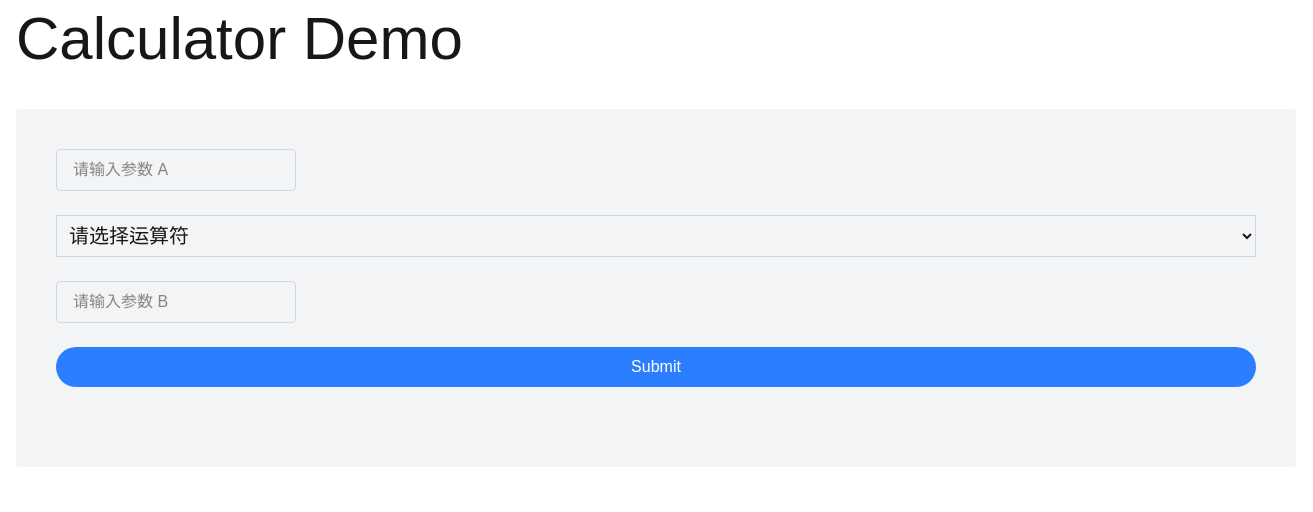
Scenario: Calculator Page › submits and shows success message
Type "10" into the number field with placeholder "请输入参数 A".
click(176, 170); type("10")  # box left=56, top=149, right=296, bottom=191
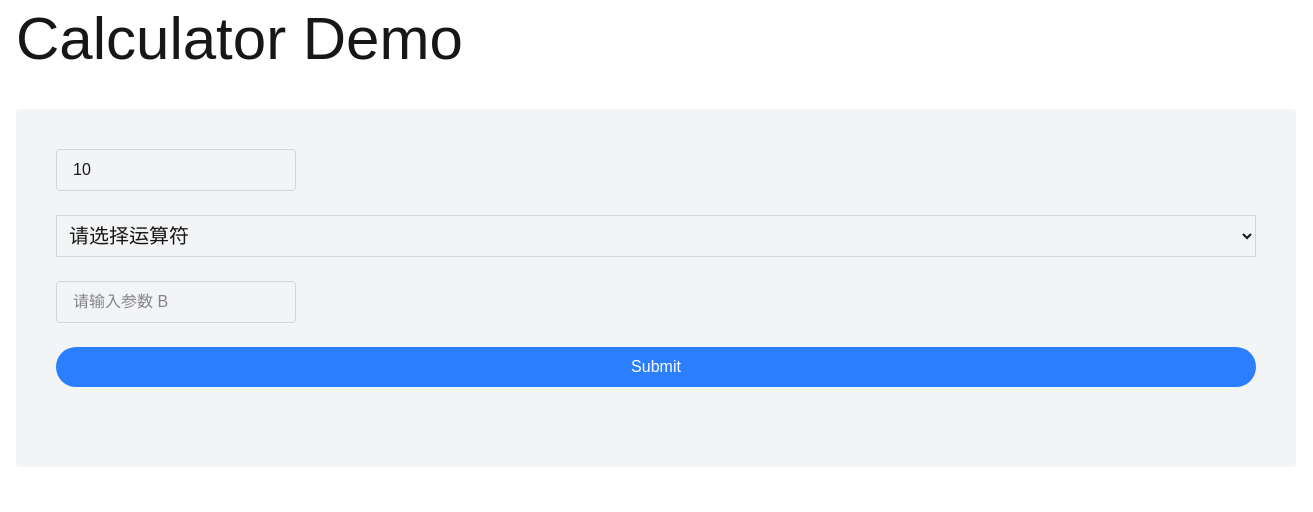
Type "32" into the number field with placeholder "请输入参数 B".
click(176, 302); type("32")  # box left=56, top=281, right=296, bottom=323
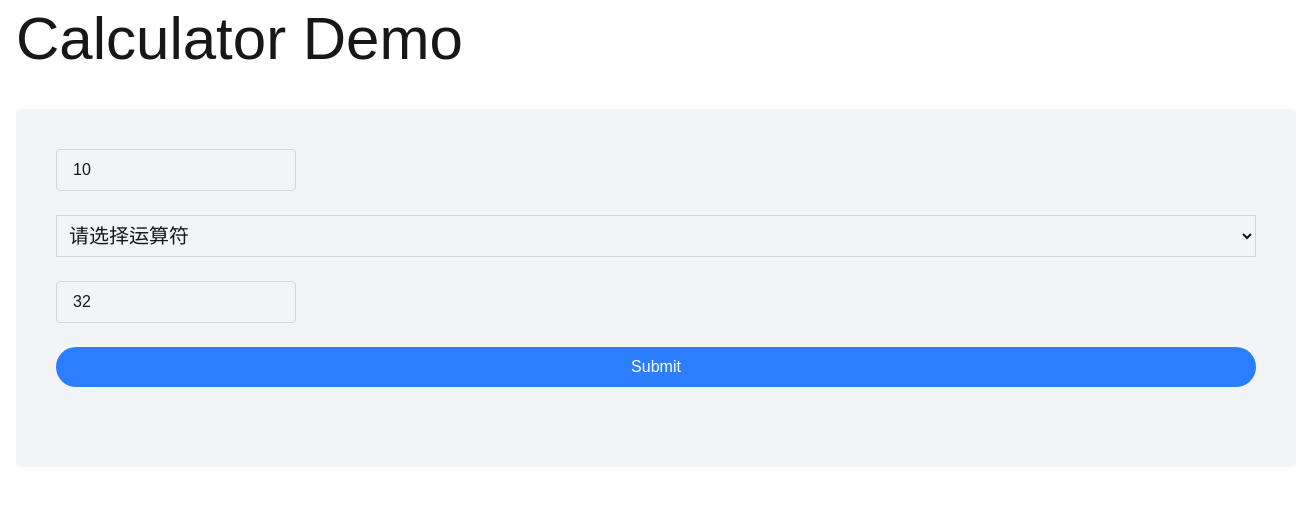
Select "+" in the dropdown at [656, 236], box left=56, top=215, right=1256, bottom=257
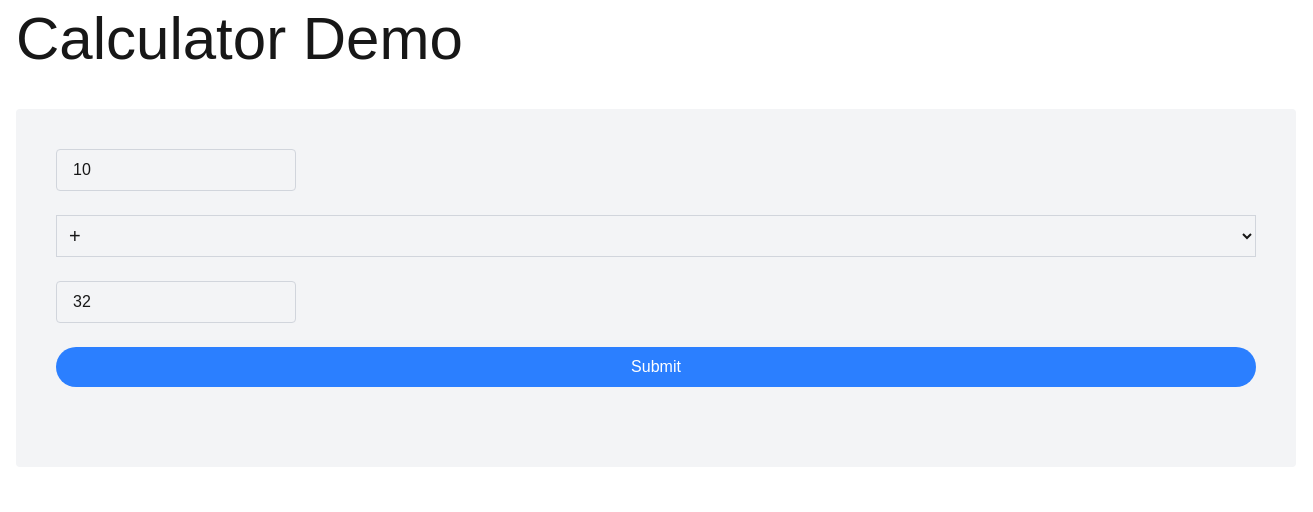
Click the button "Submit".
click(656, 367)  # box left=56, top=347, right=1256, bottom=387
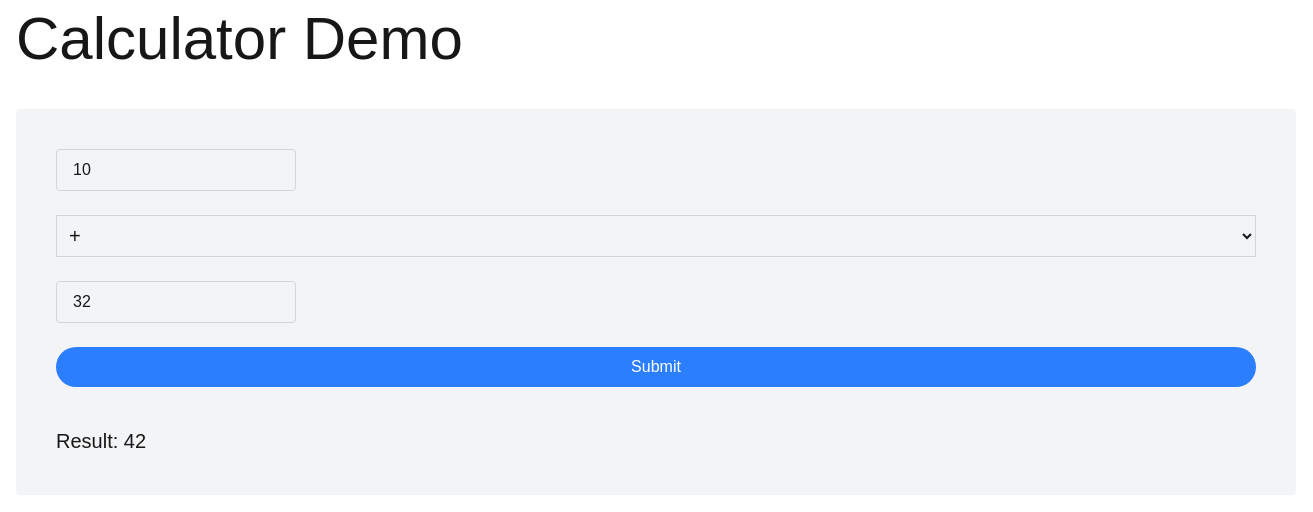
Result: the text "Result: 42" is shown at left=56, top=430, right=146, bottom=452
